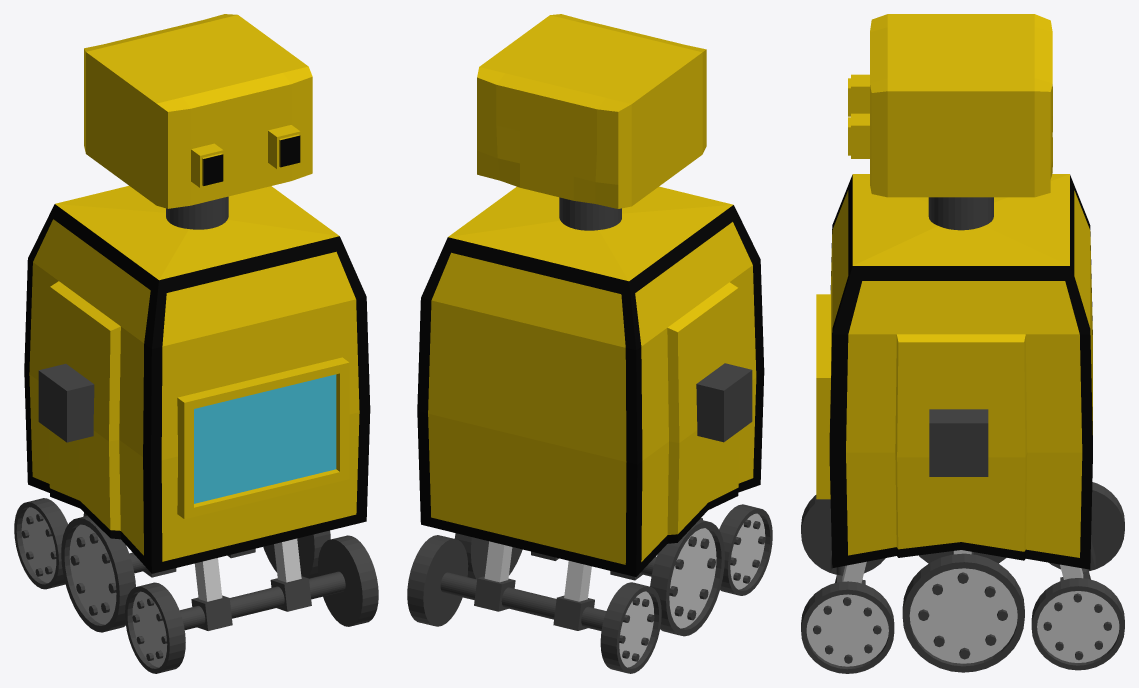
Rendered from robot.fbx.
The picture shows the model from 3 angles, left to right: view 1: azimuth 30°, elevation 25°; view 2: azimuth 150°, elevation 25°; view 3: azimuth 270°, elevation 25°; orthographic projection. The views are drawn at different scales.
Visible parts, largest first — view 1: Robot, Wheel1, Wheel2, Wheel2.001, Wheel3, Wheel1.001; view 2: Robot, Wheel1, Wheel3, Wheel3.001, Wheel2, Wheel1.001; view 3: Robot, Wheel1.001, Wheel2.001, Wheel3.001, Wheel3, Wheel2, Wheel1.
Part boxes in pixels (<box>): Robot: <box>24,14,370,630</box>; Wheel1: <box>61,515,135,632</box>; Wheel2: <box>125,582,185,673</box>; Wheel2.001: <box>318,535,378,626</box>; Wheel3: <box>14,498,67,589</box>; Wheel1.001: <box>263,530,330,578</box>; Robot: <box>417,14,764,631</box>; Wheel1: <box>650,519,724,636</box>; Wheel3: <box>600,582,661,673</box>; Wheel3.001: <box>407,535,468,626</box>; Wheel2: <box>719,504,772,595</box>; Wheel1.001: <box>454,533,522,579</box>; Robot: <box>816,14,1095,584</box>; Wheel1.001: <box>902,553,1024,672</box>; Wheel2.001: <box>801,581,894,673</box>; Wheel3.001: <box>1031,578,1124,670</box>; Wheel3: <box>1043,482,1124,660</box>; Wheel2: <box>801,495,885,663</box>; Wheel1: <box>918,551,1007,659</box>.
Size of the model in its own units: 175 by 314 by 162.
